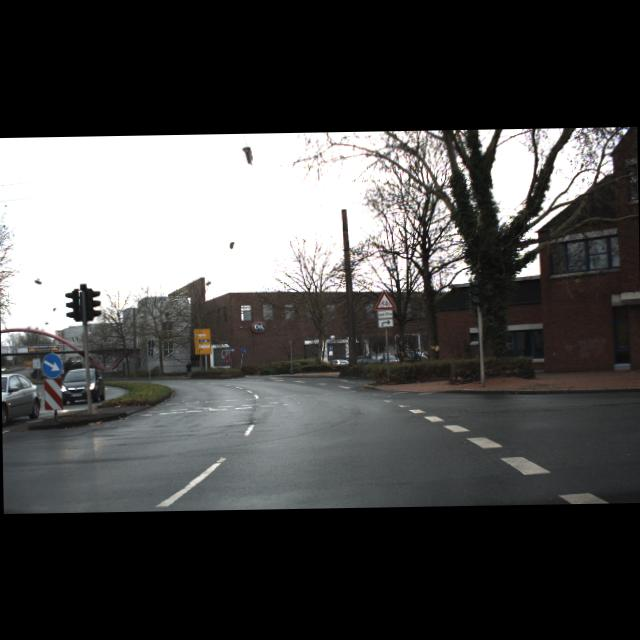danger: (374, 290, 396, 310)
mandatory: (41, 352, 62, 377)
